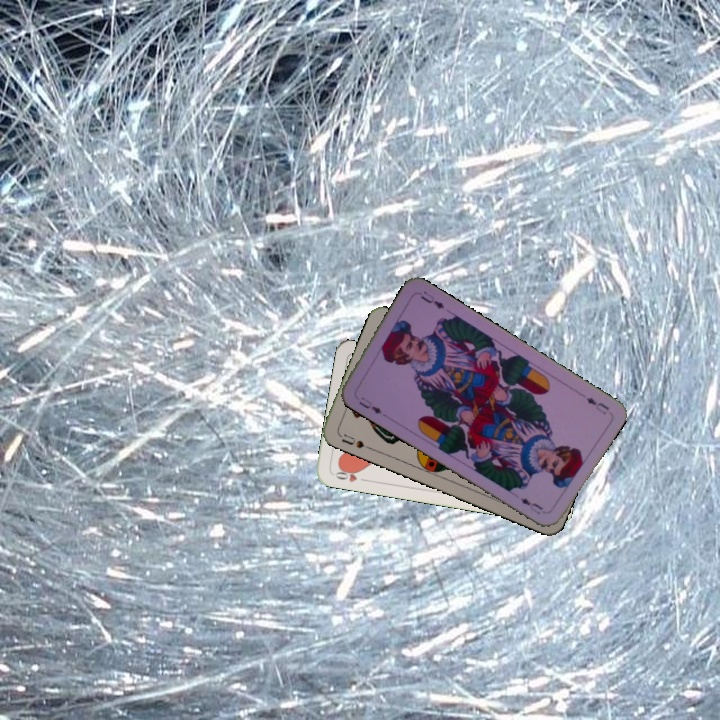EU: (582, 393, 612, 417), (355, 393, 384, 417)
HO: (331, 464, 370, 485)
SU: (335, 430, 374, 452)
